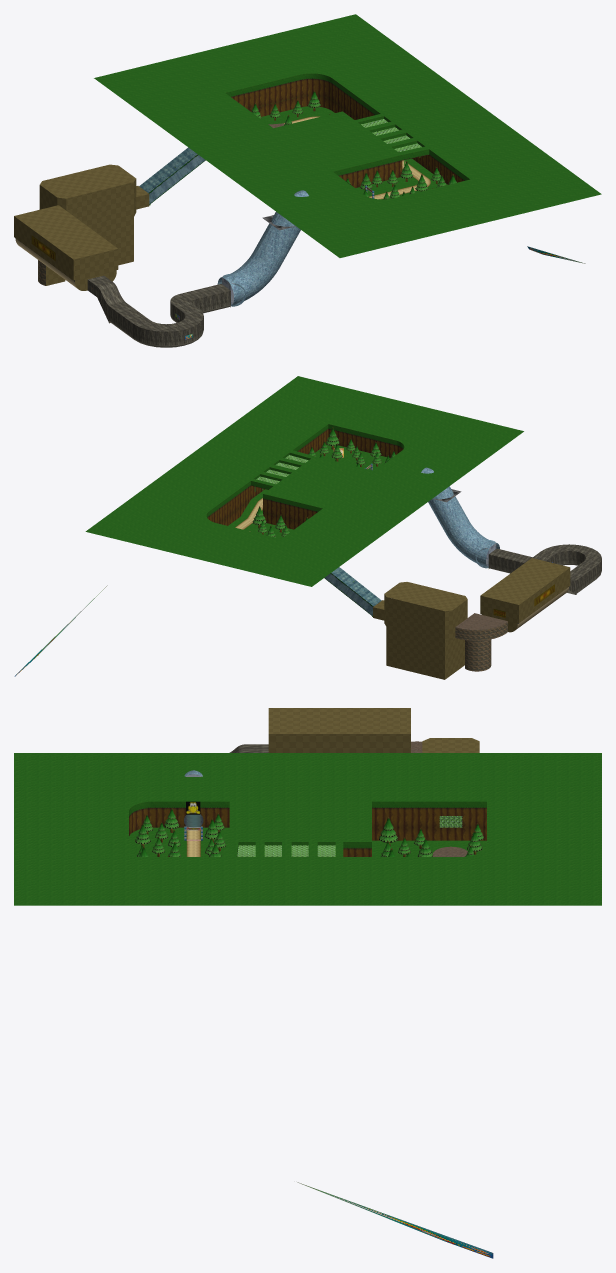
3 views of the same model, one above another, from view 1: azimuth 30°, elevation 25°; view 2: azimuth 150°, elevation 25°; view 3: azimuth 270°, elevation 25° (orthographic). The views are drawn at different scales.
Visible parts, largest first — view 1: WWR-SKP--Grass.001, WWR-SKP--Tile2.001, WWR-SKP--Outside_Cliff.001, WWR-SKP--Cave_Wall.001, WWR-SKP--Water_Wall.001, WWR-SKP--Tree.001, WWR-SKP--UGCeiling.001, WWR-SKP--UGwall.001, WWR-SKP--Growth.001, WWR-SKP--Road.001; view 2: WWR-SKP--Grass.001, WWR-SKP--Tile2.001, WWR-SKP--Outside_Cliff.001, WWR-SKP--Cave_Wall.001, WWR-SKP--Water_Wall.001, WWR-SKP--Brick2.001, WWR-SKP--Tree.001, WWR-SKP--UGCeiling.001, WWR-SKP--Dirt.001, WWR-SKP--UGwall.001; view 3: WWR-SKP--Grass.001, WWR-SKP--Tile2.001, WWR-SKP--Outside_Cliff.001, WWR-SKP--Tree.001, WWR-SKP--Growth.001, WWR-SKP--Right.001.
Part boxes in pixels (<box>): WWR-SKP--Grass.001: <box>94,14,601,257</box>; WWR-SKP--Tile2.001: <box>14,164,149,290</box>; WWR-SKP--Outside_Cliff.001: <box>225,73,469,187</box>; WWR-SKP--Cave_Wall.001: <box>87,275,230,345</box>; WWR-SKP--Water_Wall.001: <box>217,190,308,306</box>; WWR-SKP--Tree.001: <box>251,90,456,199</box>; WWR-SKP--UGCeiling.001: <box>139,147,197,192</box>; WWR-SKP--UGwall.001: <box>148,154,205,204</box>; WWR-SKP--Growth.001: <box>149,119,421,205</box>; WWR-SKP--Road.001: <box>284,116,430,199</box>; WWR-SKP--Grass.001: <box>85,376,523,586</box>; WWR-SKP--Tile2.001: <box>373,558,570,679</box>; WWR-SKP--Outside_Cliff.001: <box>206,424,404,529</box>; WWR-SKP--Cave_Wall.001: <box>488,544,601,594</box>; WWR-SKP--Water_Wall.001: <box>421,467,499,568</box>; WWR-SKP--Brick2.001: <box>455,621,507,671</box>; WWR-SKP--Tree.001: <box>252,427,395,537</box>; WWR-SKP--UGCeiling.001: <box>331,567,381,606</box>; WWR-SKP--Dirt.001: <box>455,613,507,629</box>; WWR-SKP--UGwall.001: <box>324,573,373,616</box>; WWR-SKP--Grass.001: <box>14,753,601,905</box>; WWR-SKP--Tile2.001: <box>268,708,479,752</box>; WWR-SKP--Outside_Cliff.001: <box>129,801,486,856</box>; WWR-SKP--Tree.001: <box>135,808,483,856</box>; WWR-SKP--Growth.001: <box>237,816,462,856</box>; WWR-SKP--Right.001: <box>297,1182,493,1258</box>.
Bounding box in the file's own units: 184577 × 75976 × 143139.
41 materials, 41 textured.
